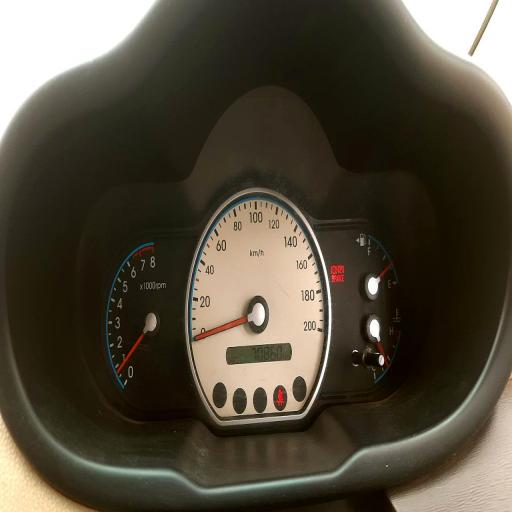belt: (277, 388, 284, 406)
brake_system_fault: (331, 265, 337, 275)
tachometer: (106, 240, 162, 390)
